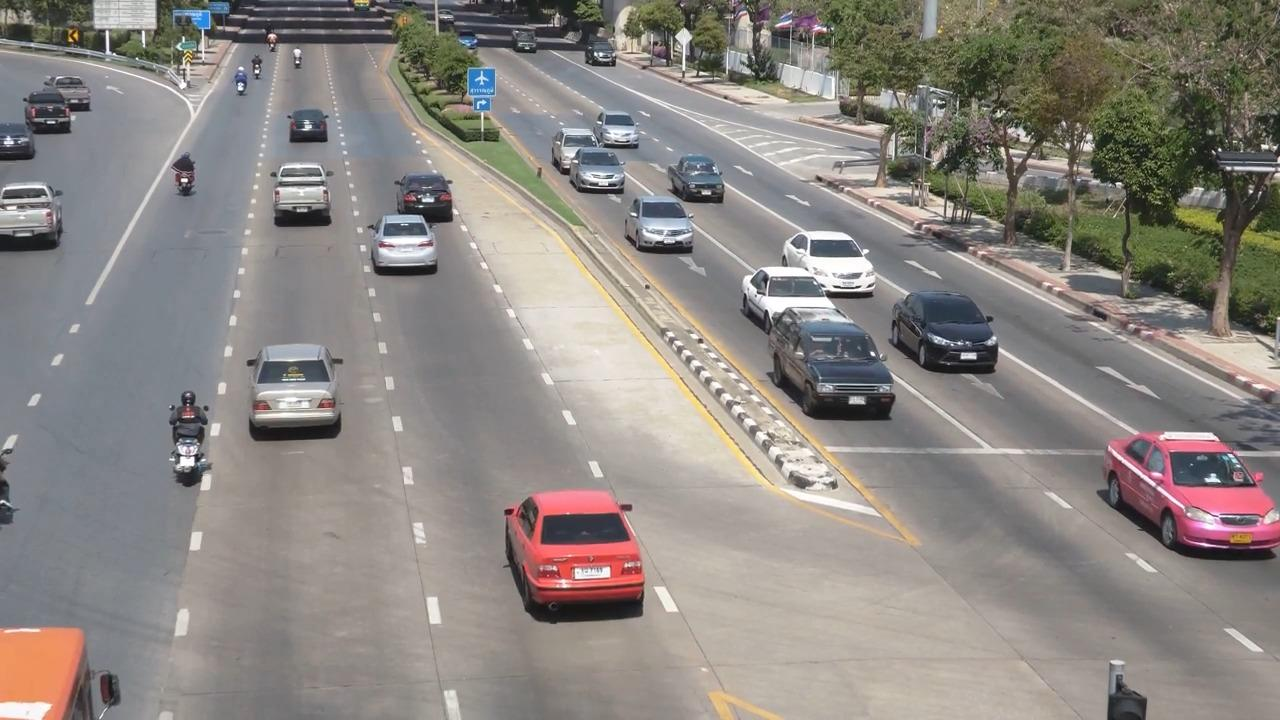CAR: (1100, 417, 1280, 566), (491, 481, 662, 632), (247, 333, 368, 471), (881, 280, 1017, 388), (775, 313, 894, 422), (731, 265, 849, 341), (0, 168, 79, 266), (781, 224, 886, 297), (364, 207, 444, 286), (265, 158, 346, 233), (607, 183, 690, 246), (396, 160, 466, 228), (639, 137, 715, 198), (17, 85, 84, 143), (274, 104, 339, 153), (563, 145, 620, 196), (573, 94, 628, 142), (542, 125, 602, 167), (49, 70, 101, 115)
MOTOR: (147, 376, 227, 497), (159, 139, 212, 201), (258, 24, 288, 65), (223, 63, 251, 99)
